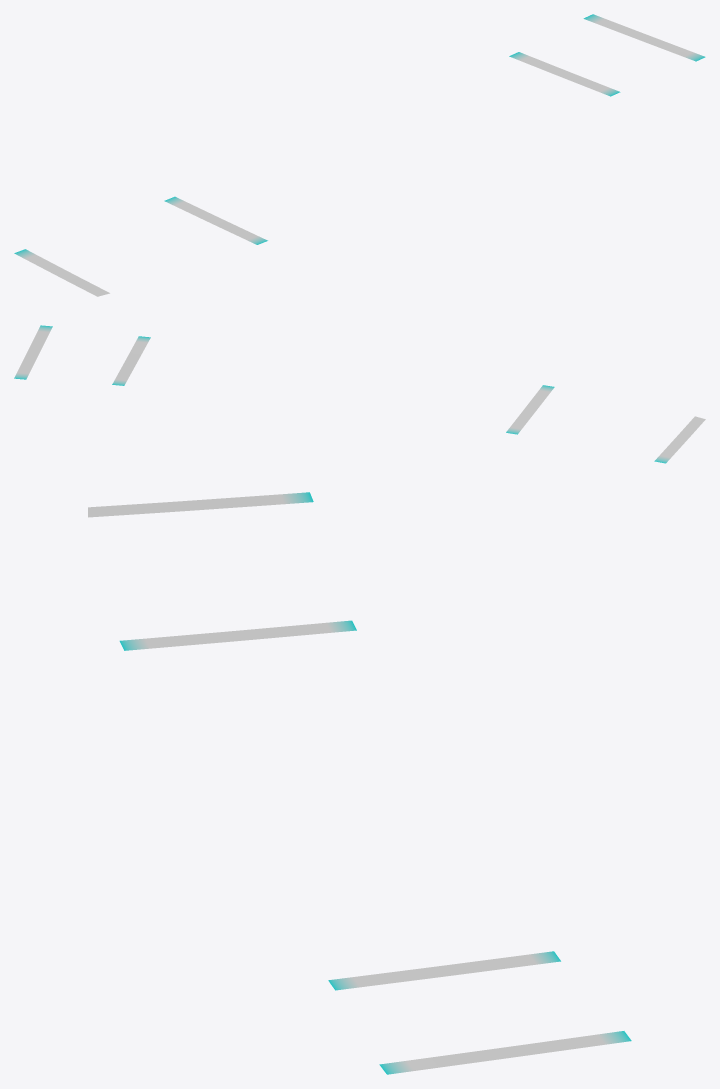
3 renders of one model, top to bottom at view 1: azimuth 30°, elevation 25°; view 2: azimuth 150°, elevation 25°; view 3: azimuth 270°, elevation 25°, orthographic. The views are drawn at different scales.
Visible parts, largest first — view 1: SpaceCenter_Long3_GenerateRoad_Asphalt_PCGMesh_Decal_Mesh_x1; view 2: SpaceCenter_Long3_GenerateRoad_Asphalt_PCGMesh_Decal_Mesh_x1; view 3: SpaceCenter_Long3_GenerateRoad_Asphalt_PCGMesh_Decal_Mesh_x1.
Part boxes in pixels (x1,y1,x2,y2): SpaceCenter_Long3_GenerateRoad_Asphalt_PCGMesh_Decal_Mesh_x1: [14, 14, 705, 296]; SpaceCenter_Long3_GenerateRoad_Asphalt_PCGMesh_Decal_Mesh_x1: [14, 325, 705, 463]; SpaceCenter_Long3_GenerateRoad_Asphalt_PCGMesh_Decal_Mesh_x1: [88, 492, 631, 1074].
Size of the model in its own units: 780 by 2006 by 16.41.
